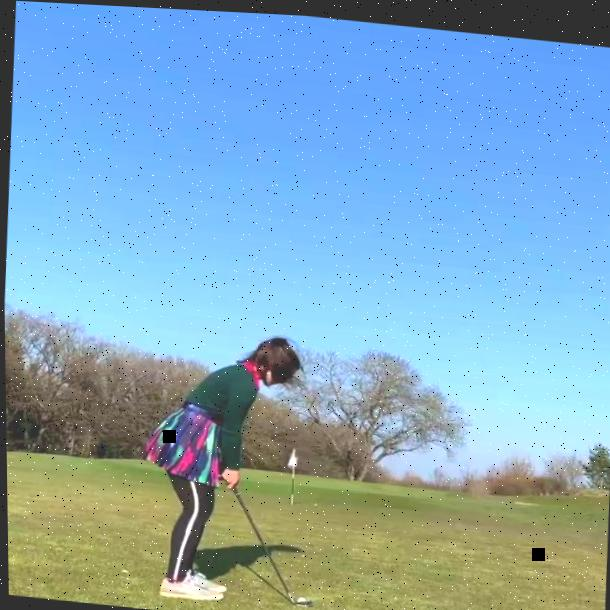ClubHead: (292, 596, 310, 604)
GolfBall: (295, 593, 304, 598)
